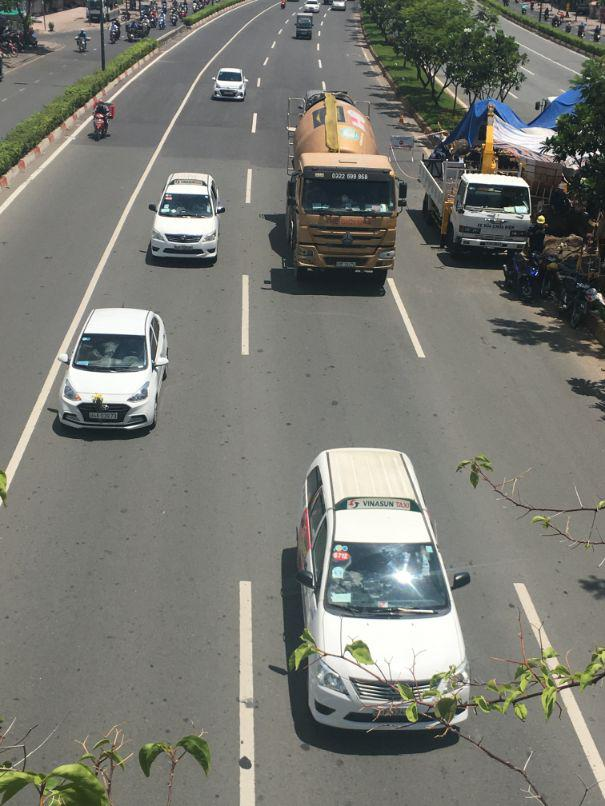car: (286, 448, 472, 741), (58, 304, 174, 435), (147, 170, 224, 266), (211, 66, 249, 101), (305, 0, 320, 11), (331, 0, 345, 10)
motorbike: (90, 105, 111, 140), (76, 31, 90, 52)
truck: (286, 91, 400, 291), (408, 144, 546, 253), (296, 14, 315, 40)
